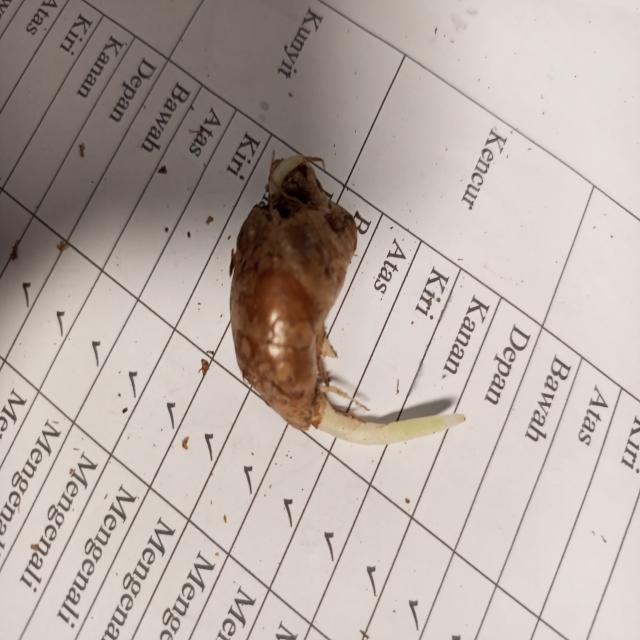ginger: (235, 162, 356, 442)
